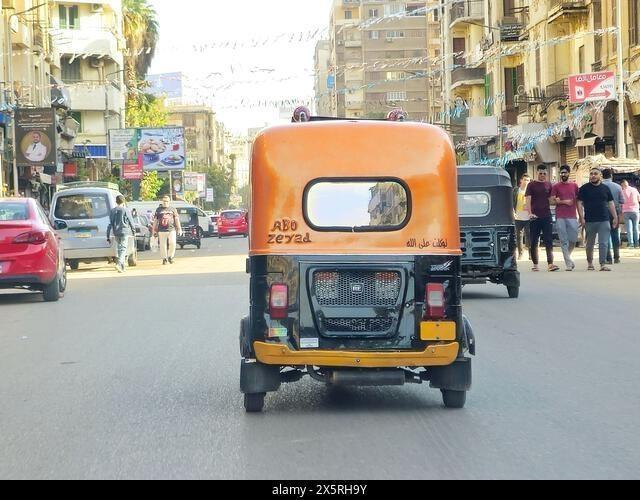keke: (247, 123, 479, 428), (456, 163, 521, 304), (0, 188, 67, 315)
